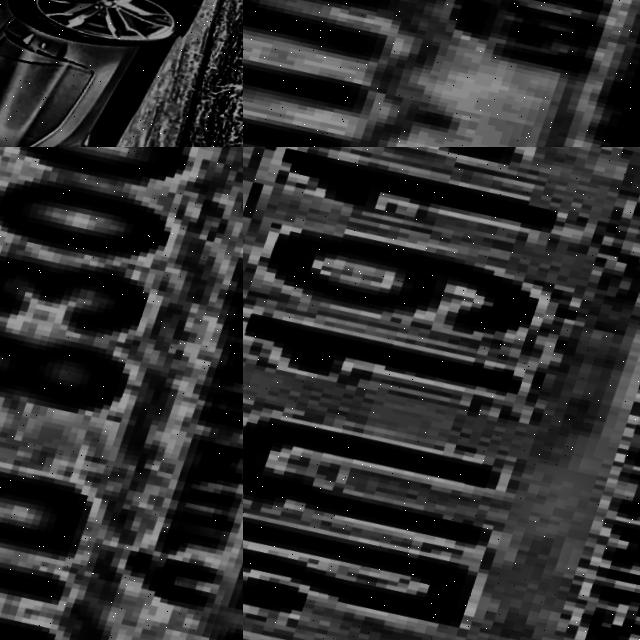license-plate: (243, 147, 640, 640), (0, 147, 243, 640), (243, 0, 640, 147)
